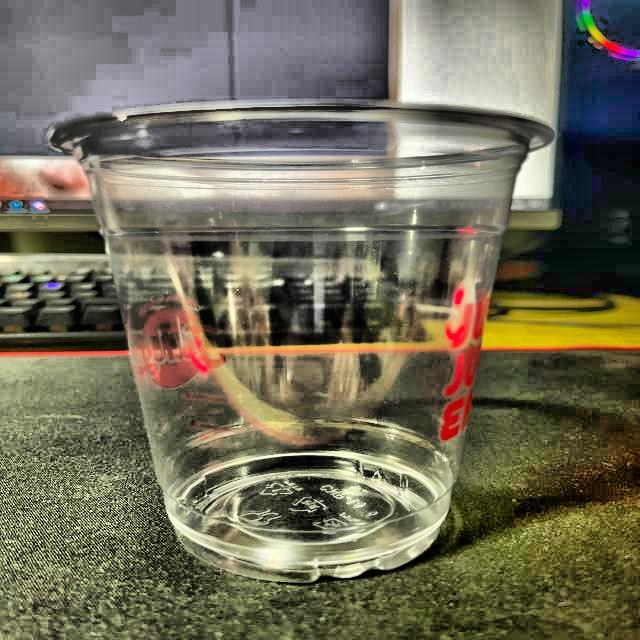plastic cup: (44, 102, 558, 586)
